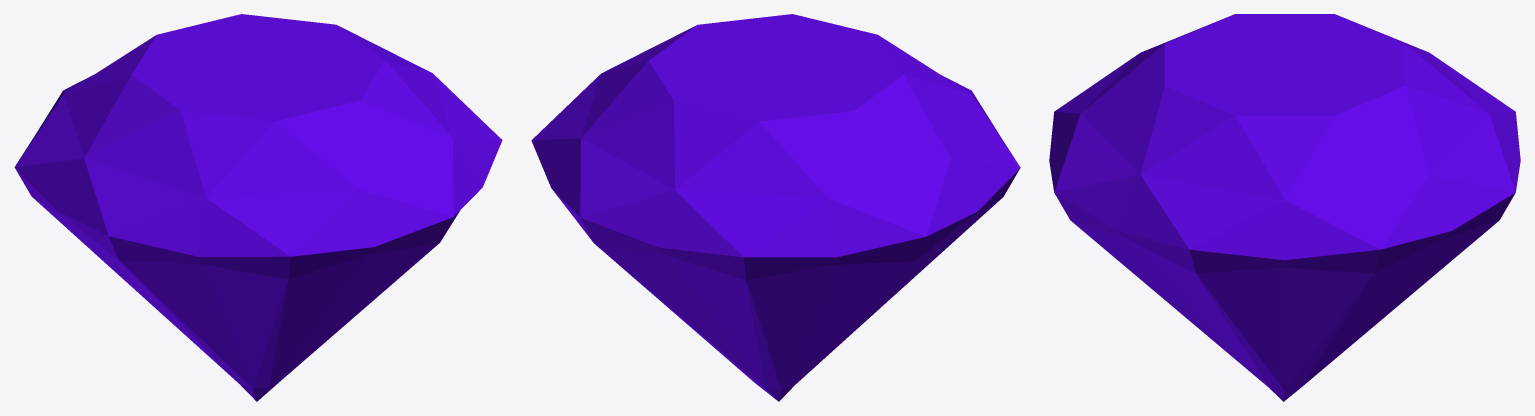
Rendered from Diamon.fbx.
3 views of the same model, side by side, from view 1: azimuth 30°, elevation 25°; view 2: azimuth 150°, elevation 25°; view 3: azimuth 270°, elevation 25° (orthographic).
Visible parts, largest first — view 1: Cylinder; view 2: Cylinder; view 3: Cylinder.
Part boxes in pixels (left/top/right/bottom): Cylinder: left=14, top=14, right=502, bottom=401; Cylinder: left=531, top=14, right=1020, bottom=401; Cylinder: left=1049, top=14, right=1520, bottom=401.
Bounding box in the file's own units: 2.31 × 1.83 × 2.31.
